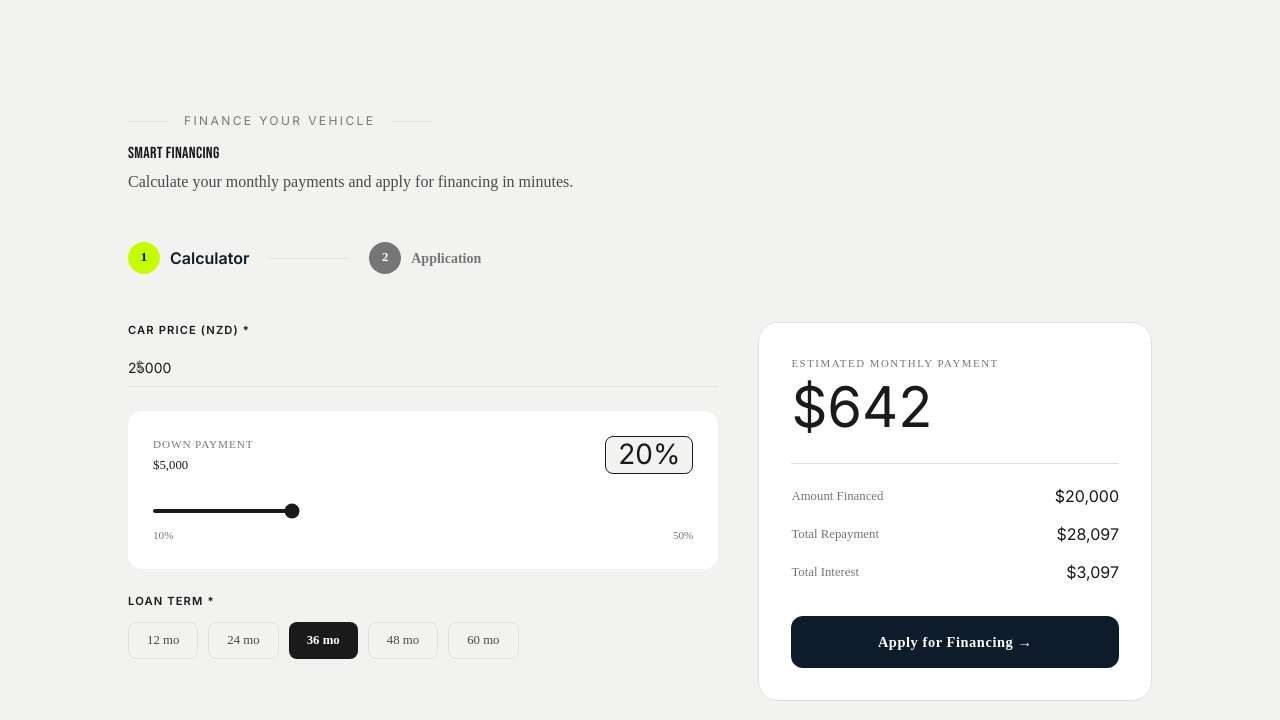
Test: Financing Page › Accessibility › has back button on step 2
Click the button "Apply for Financing →" at (955, 642), box [791,616,1119,668]
(page scrolled)
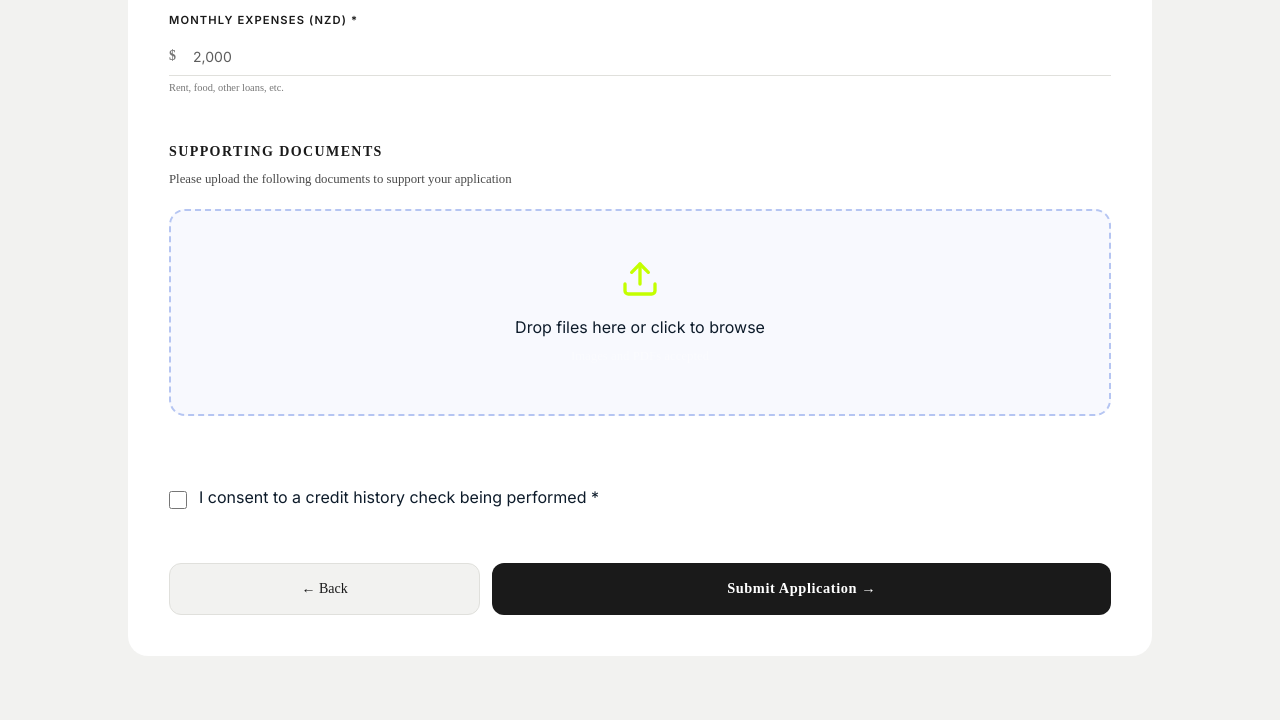
Expected: the button "← Back" is shown, [169,563,480,615]
